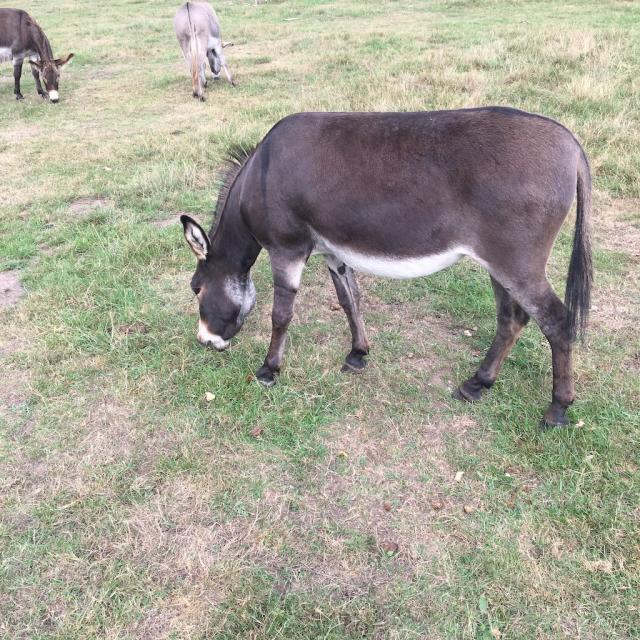Donkey: (178, 103, 596, 434), (0, 5, 76, 103), (170, 0, 238, 102)
